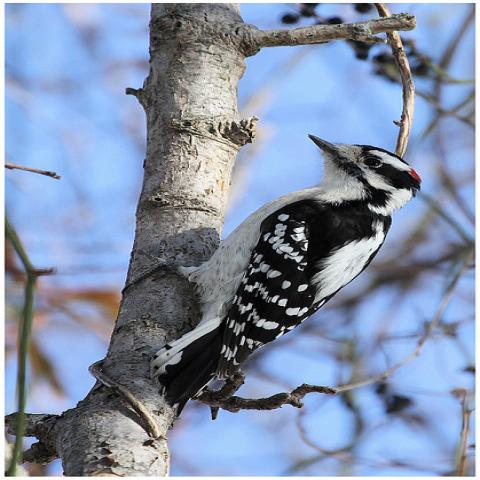bird: (134, 132, 423, 422)
